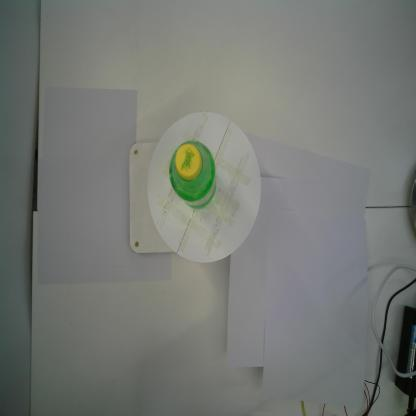Drink: (166, 137, 219, 213)
